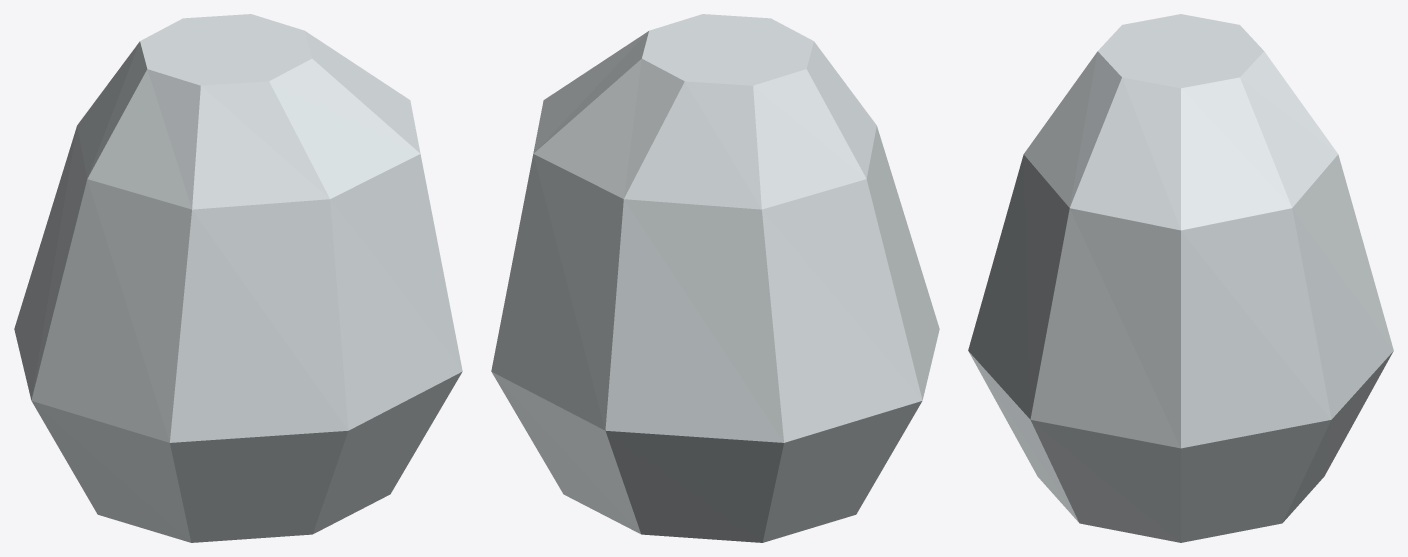
Rendered from ice_boulder.obj.
The picture shows the model from 3 angles, left to right: view 1: azimuth 30°, elevation 25°; view 2: azimuth 150°, elevation 25°; view 3: azimuth 270°, elevation 25°; orthographic projection. The views are drawn at different scales.
Visible parts, largest first — view 1: ice_boulder; view 2: ice_boulder; view 3: ice_boulder.
Part boxes in pixels (<box>): ice_boulder: <box>14,14,462,542</box>; ice_boulder: <box>491,14,939,542</box>; ice_boulder: <box>968,14,1393,542</box>.
Size of the model in its own units: 1 by 1 by 0.92.
